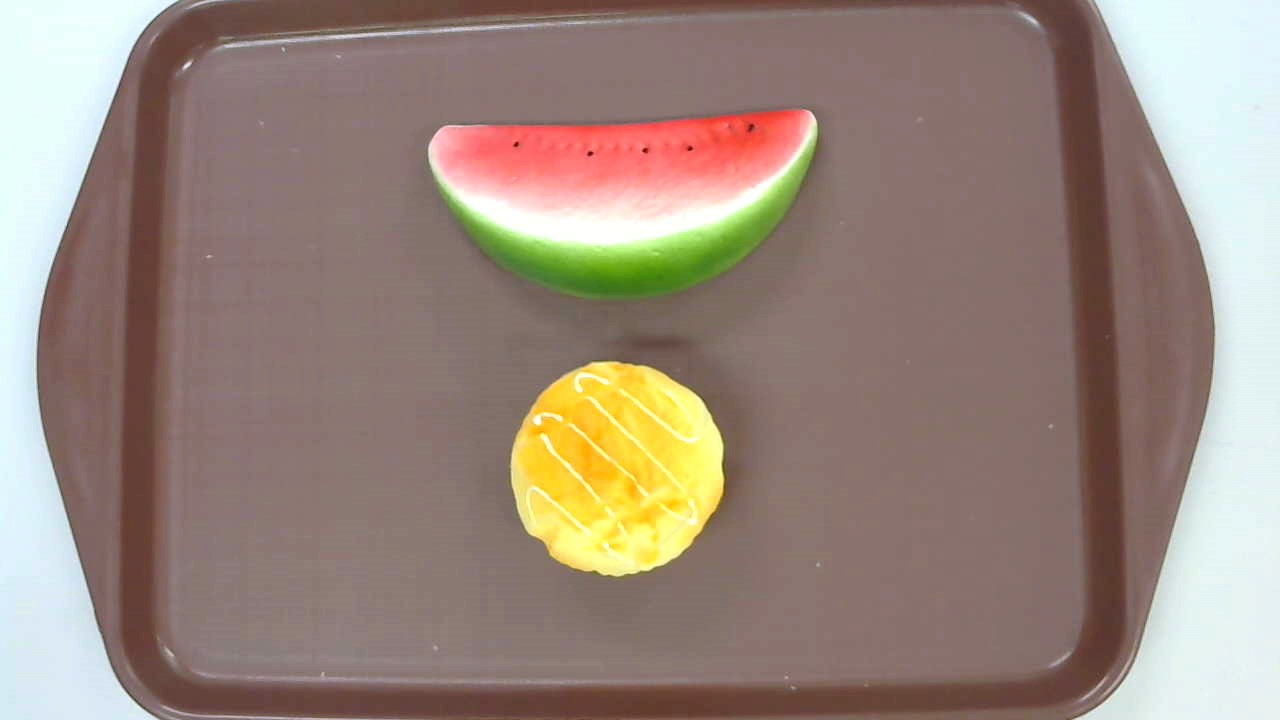cupcake: (510, 359, 725, 578)
water melon: (426, 108, 819, 300)
